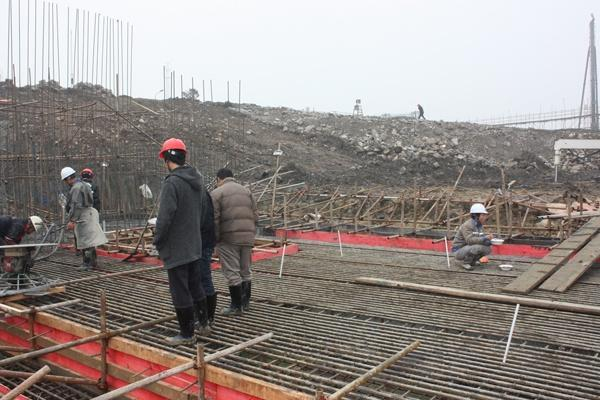helmet: (158, 138, 188, 160), (470, 203, 489, 214), (61, 167, 76, 180), (31, 216, 44, 230), (78, 167, 93, 175)
no-gloves: (486, 234, 494, 242)
no-helmet: (216, 168, 235, 178)
no-shoes: (460, 262, 475, 270), (472, 260, 482, 266)
no-vest: (154, 164, 208, 269), (209, 180, 260, 246), (65, 180, 94, 220), (453, 221, 486, 249), (0, 217, 23, 241), (85, 179, 101, 204), (66, 221, 76, 231)
person: (152, 137, 212, 347), (209, 167, 261, 316), (451, 204, 493, 272), (0, 213, 47, 270), (80, 166, 105, 222), (418, 101, 426, 120)
shoes: (61, 166, 108, 272), (164, 303, 198, 346), (220, 280, 253, 316), (219, 282, 244, 316), (192, 297, 210, 336), (86, 251, 99, 273), (76, 262, 87, 271)
